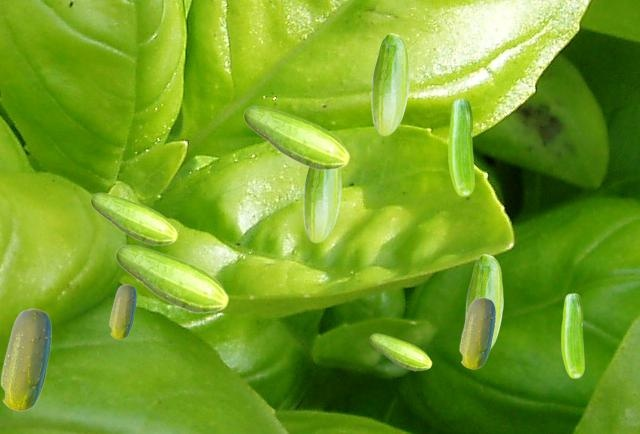cucumber: (115, 244, 228, 313), (243, 105, 349, 170), (0, 308, 50, 410), (90, 192, 177, 245), (371, 33, 408, 135), (465, 254, 502, 349), (303, 168, 340, 242), (459, 297, 494, 368), (448, 98, 473, 195), (369, 333, 431, 370), (561, 293, 583, 377), (109, 284, 135, 338)
